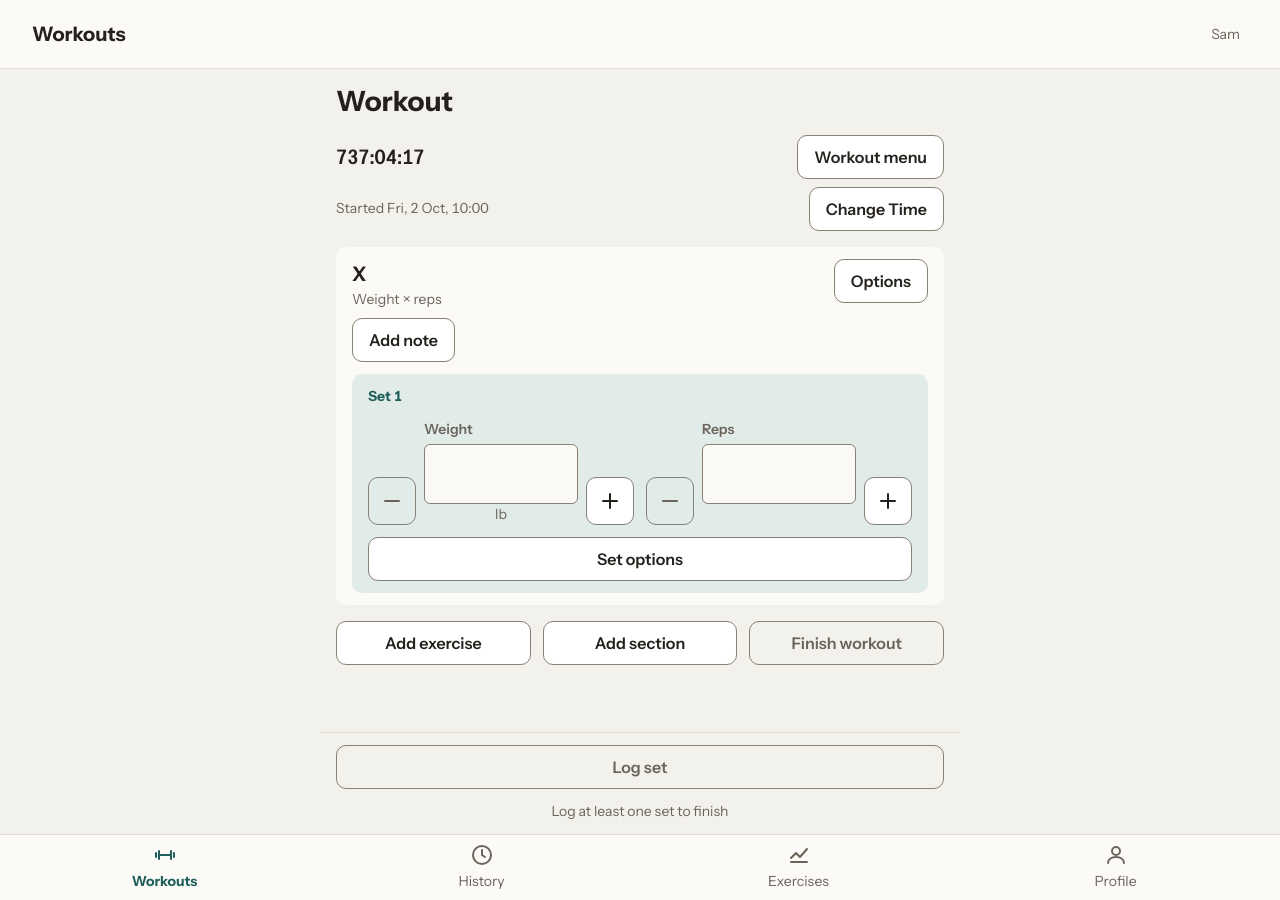
Test: 17.1 AC19 — the reps stepper › steps by one from blank and floors at 0
Expected: the heading "Workout" is shown, x1=336 y1=84 x2=453 y2=118
Click the button named "Increase reps" at {"x": 888, "y": 501}, box x1=864 y1=477 x2=912 y2=525
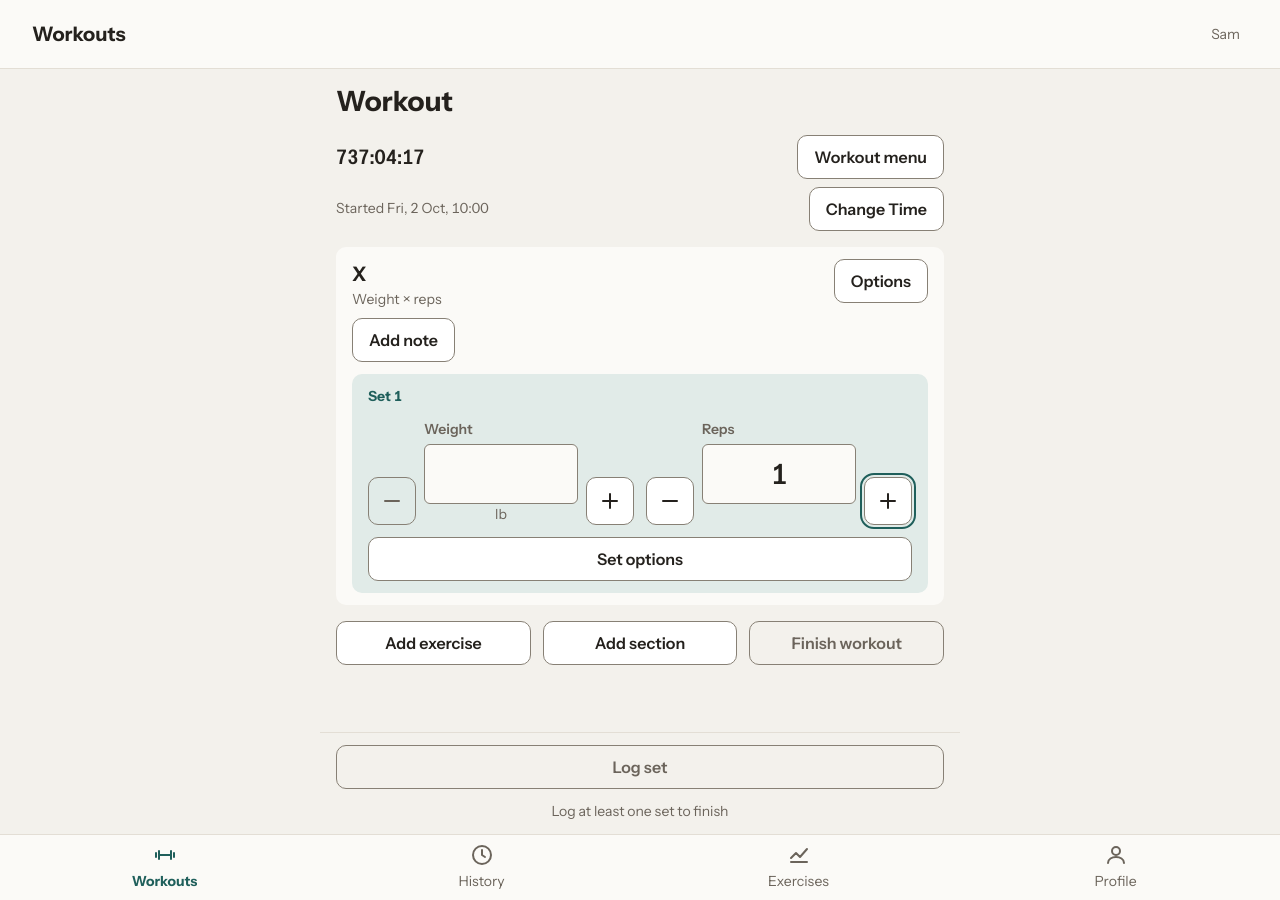
Now the field labelled "Reps" holds "1", box x1=702 y1=444 x2=856 y2=504
Click the button named "Decrease reps" at {"x": 670, "y": 501}, box x1=646 y1=477 x2=694 y2=525
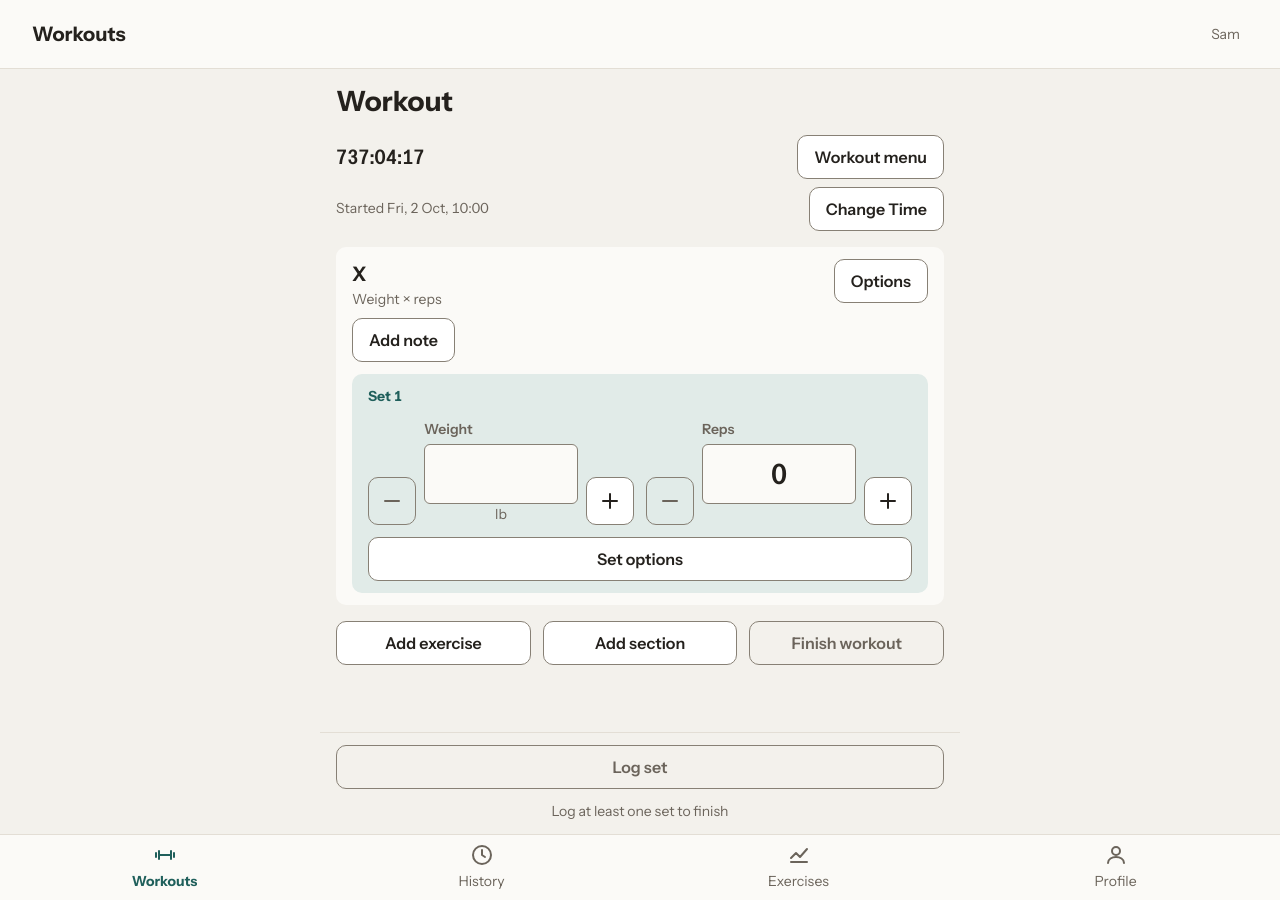
Now the field labelled "Reps" holds "0", box x1=702 y1=444 x2=856 y2=504
Now the button named "Decrease reps" is disabled, box x1=646 y1=477 x2=694 y2=525
